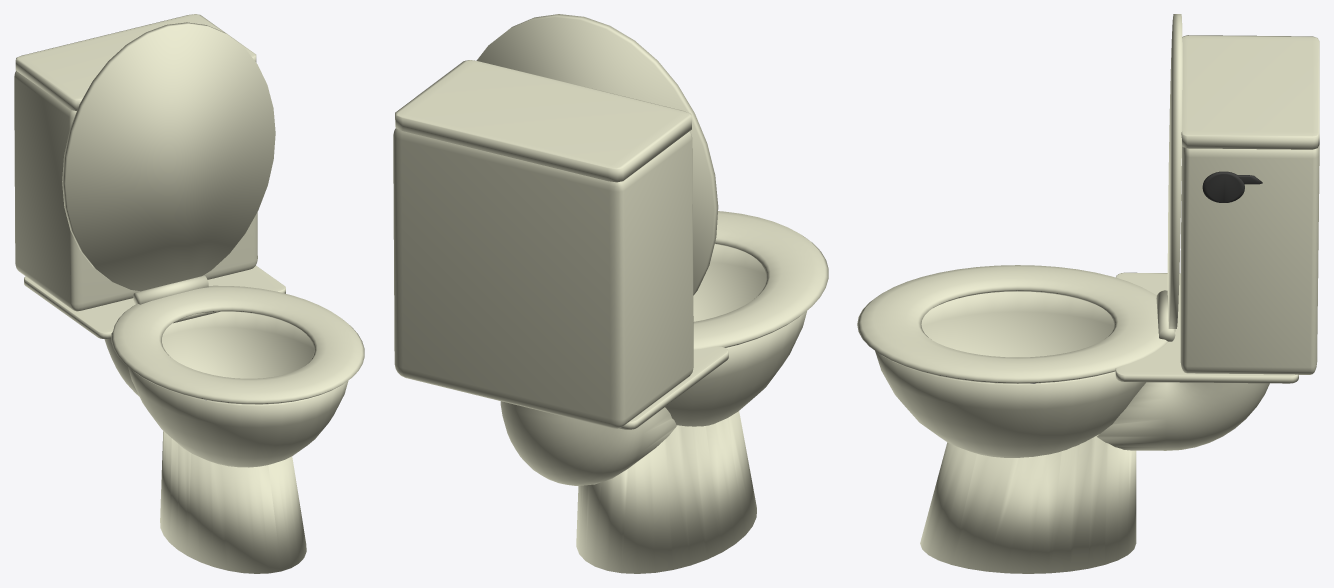
Rendered from toiletrender.fbx.
3 views of the same model, side by side, from view 1: azimuth 30°, elevation 25°; view 2: azimuth 150°, elevation 25°; view 3: azimuth 270°, elevation 25° (orthographic). The views are drawn at different scales.
Parts seen in each view (by area): view 1: Cylinder.001, Sphere, Torus, Cylinder, Cube.001, Cube.003, Cube.002, Cylinder.002, Cylinder.003; view 2: Cube.001, Cube.003, Cylinder, Cylinder.001, Sphere, Torus, Cylinder.003, Cube.002; view 3: Cube.001, Sphere, Cylinder, Torus, Cube.003, Cylinder.003, Cube.002, Cylinder.001, Cube, Cylinder.002.
Part boxes in pixels (x1=…): Cylinder.001: x1=62, y1=22, x2=275, y2=291; Sphere: x1=128, y1=311, x2=348, y2=467; Torus: x1=111, y1=285, x2=364, y2=404; Cylinder: x1=160, y1=431, x2=306, y2=573; Cube.001: x1=14, y1=71, x2=257, y2=311; Cube.003: x1=15, y1=14, x2=256, y2=110; Cube.002: x1=24, y1=265, x2=285, y2=338; Cylinder.002: x1=133, y1=275, x2=208, y2=304; Cylinder.003: x1=104, y1=338, x2=139, y2=396; Cube.001: x1=393, y1=128, x2=693, y2=428; Cube.003: x1=395, y1=60, x2=691, y2=182; Cylinder: x1=576, y1=411, x2=756, y2=573; Cylinder.001: x1=476, y1=14, x2=718, y2=295; Sphere: x1=665, y1=244, x2=806, y2=426; Torus: x1=693, y1=211, x2=828, y2=349; Cylinder.003: x1=500, y1=401, x2=676, y2=485; Cube.002: x1=619, y1=346, x2=728, y2=429; Cube.001: x1=1180, y1=145, x2=1319, y2=374; Sphere: x1=875, y1=291, x2=1145, y2=457; Cylinder: x1=920, y1=434, x2=1136, y2=573; Torus: x1=857, y1=265, x2=1175, y2=383; Cube.003: x1=1181, y1=35, x2=1319, y2=149; Cylinder.003: x1=1097, y1=382, x2=1269, y2=450; Cube.002: x1=1115, y1=272, x2=1298, y2=383; Cylinder.001: x1=1167, y1=14, x2=1182, y2=328; Cube: x1=1202, y1=171, x2=1262, y2=202; Cylinder.002: x1=1156, y1=290, x2=1175, y2=341.
Size of the model in its own units: 330 by 687 by 555.
